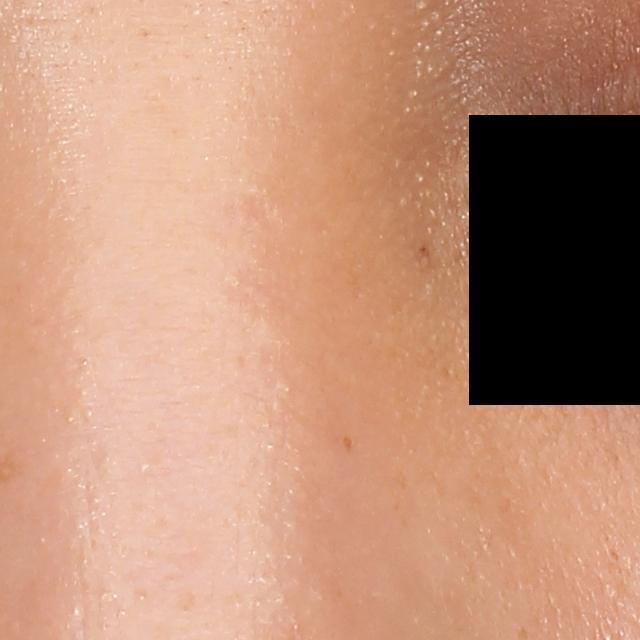nevus: (416, 241, 432, 257)
